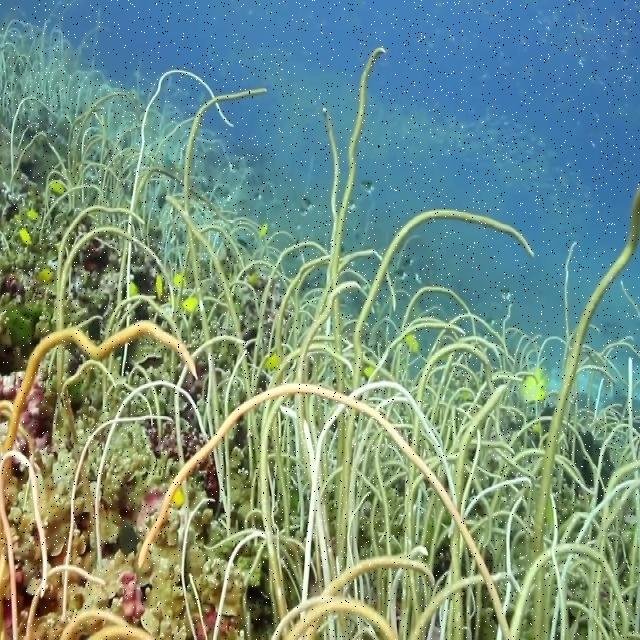fish: (520, 366, 549, 404), (170, 484, 186, 511), (179, 297, 199, 313), (35, 268, 55, 283), (18, 228, 32, 246), (265, 355, 282, 369), (155, 274, 163, 301), (50, 182, 66, 194)
reefs: (0, 1, 639, 639)
